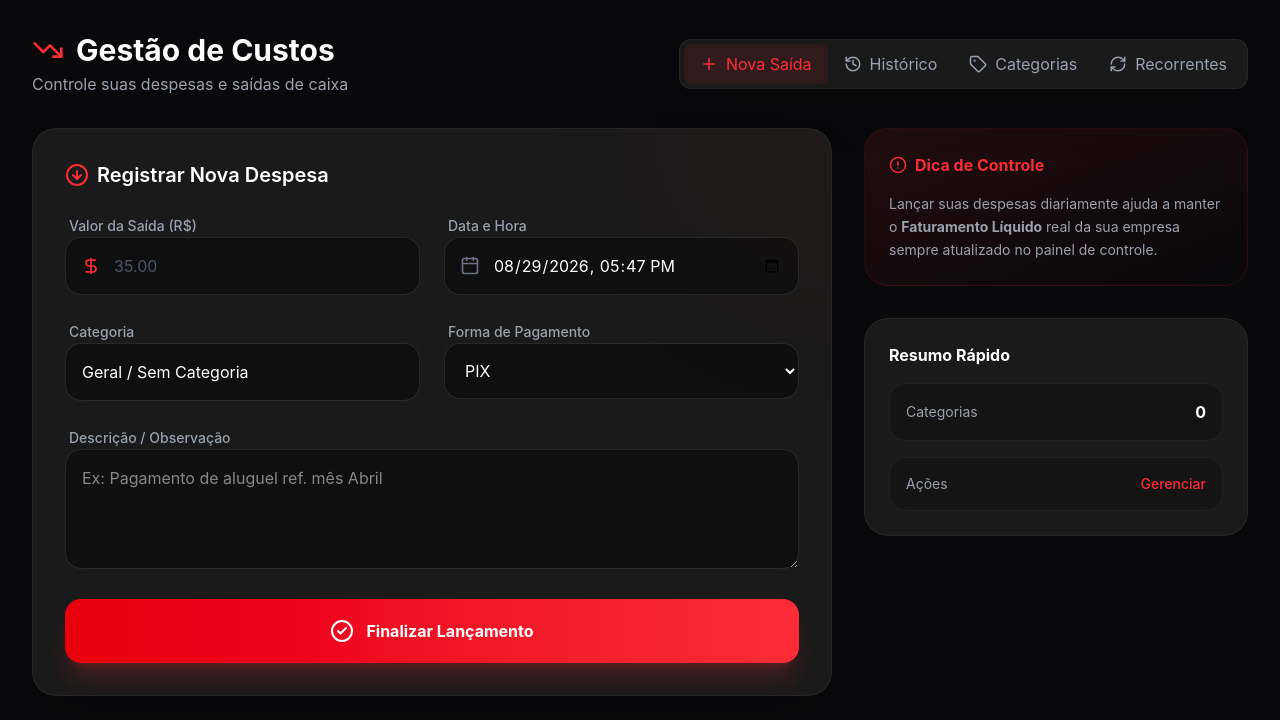
it: Página Custos › deve mudar de aba para Histórico e listar despesas
The image size is (1280, 720).
What coordinates should you click on to do the following:
click the button "Histórico"
I would click on:
 (890, 64)
Its box is 828,44 -> 953,84.
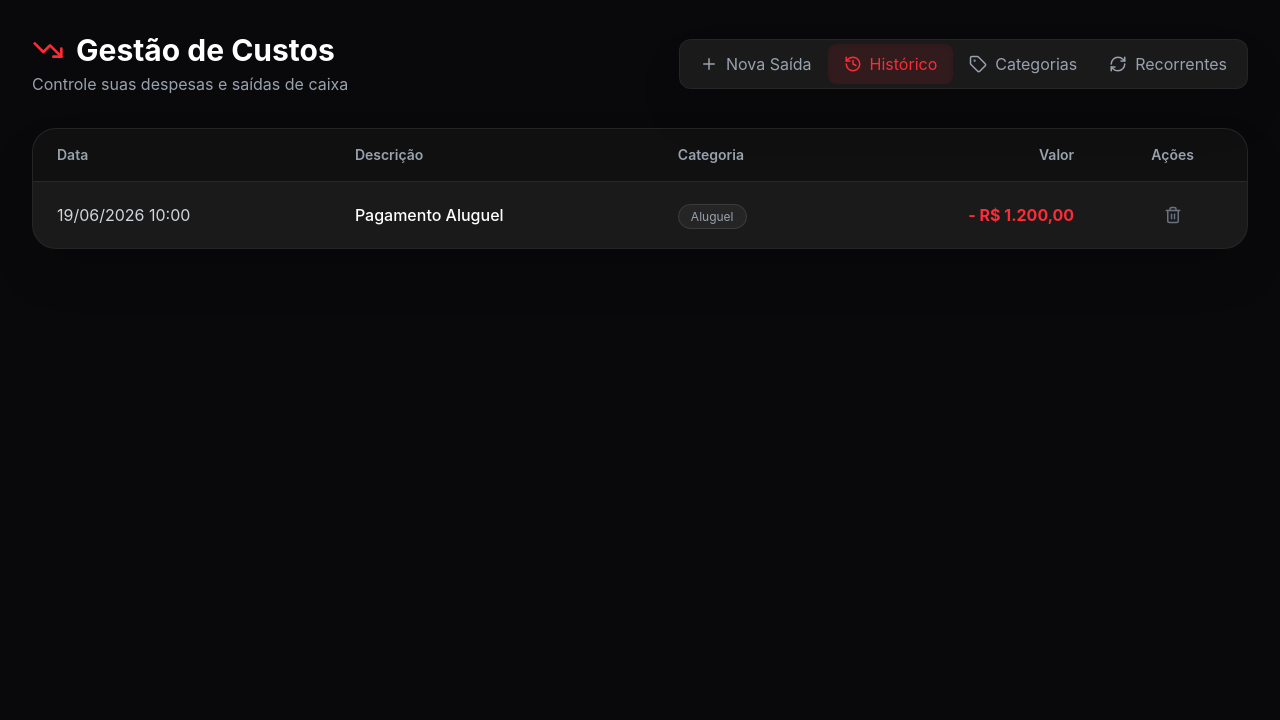
Expected: the text "Pagamento Aluguel" is shown, 355,205 -> 504,225
Expected: the text "- R$ 1.200,00" is shown, 968,205 -> 1074,225
